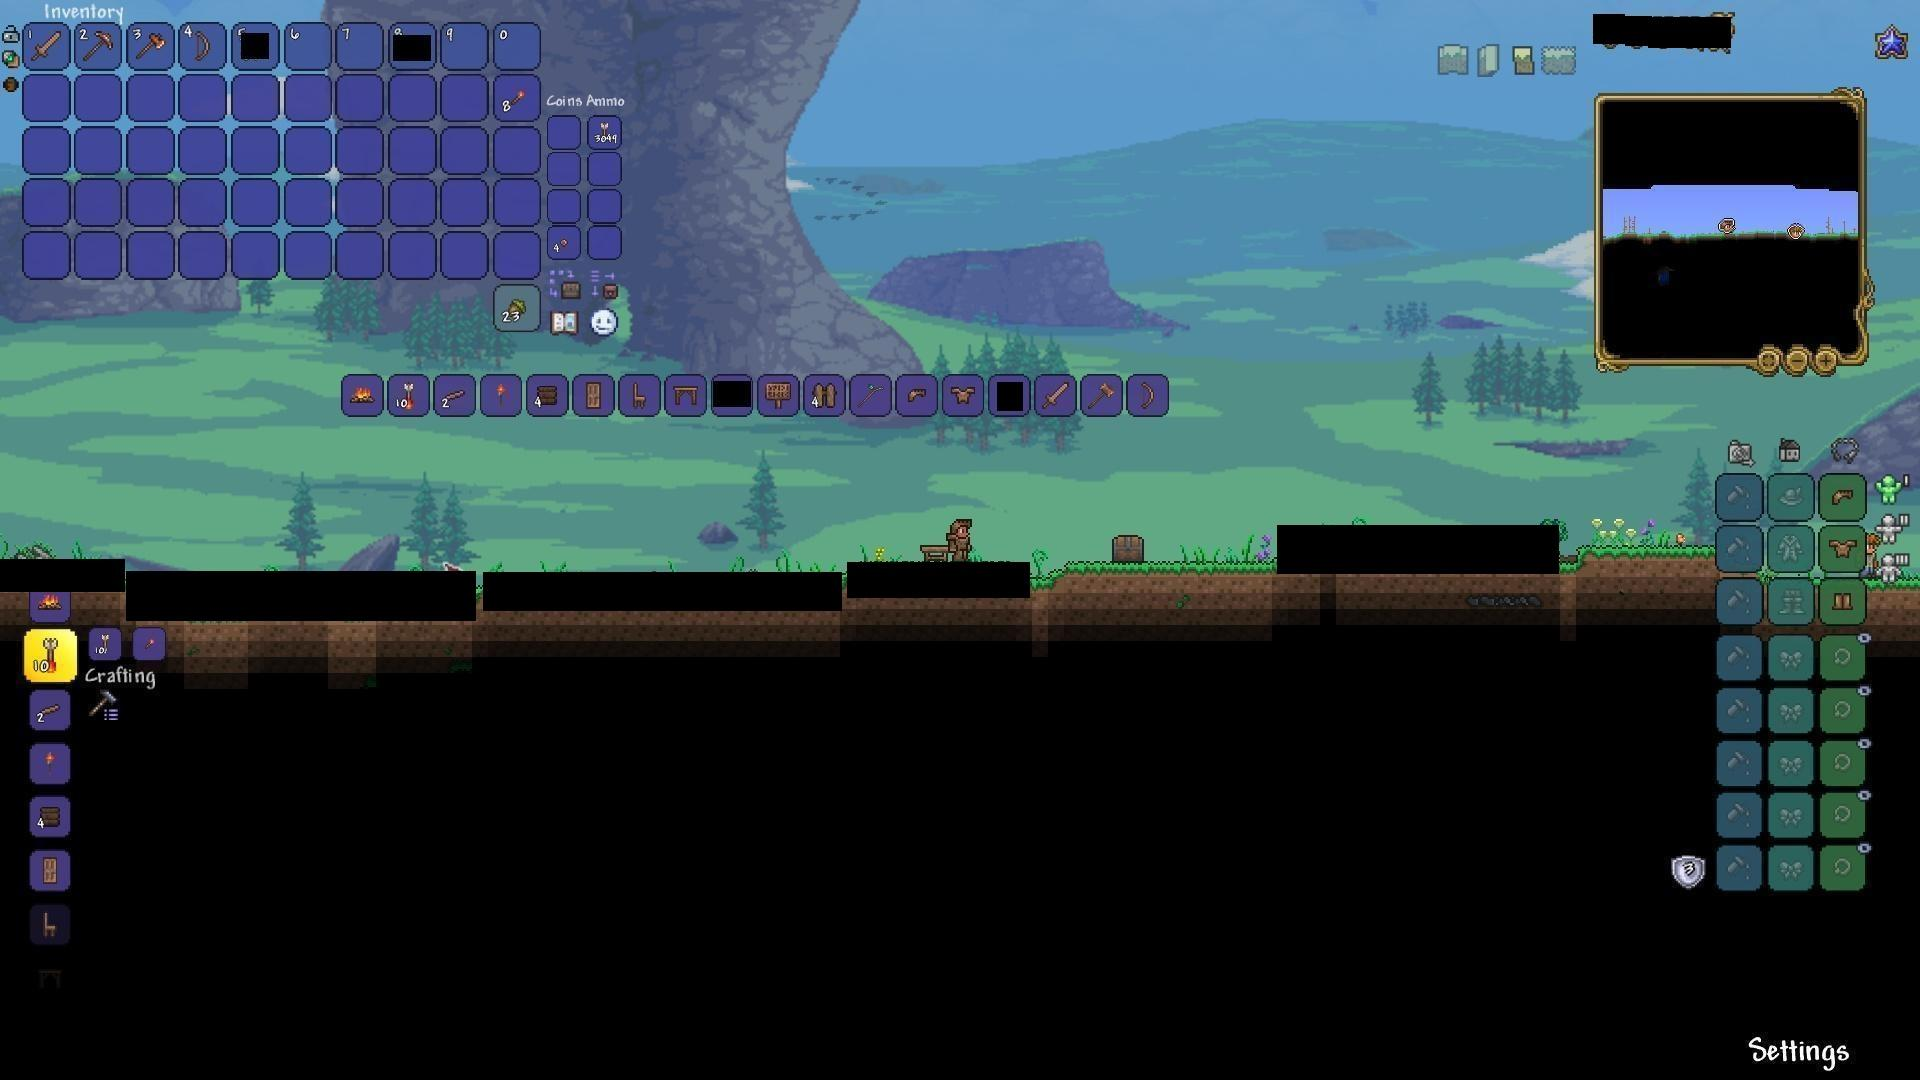breastplate: (948, 382, 978, 404), (1829, 538, 1858, 559)
dirt: (1034, 556, 1274, 587), (1563, 541, 1718, 571), (1866, 576, 1920, 618)
helmet: (1828, 483, 1859, 512), (902, 382, 934, 410)
legs: (1832, 588, 1855, 616)
workbench: (916, 541, 953, 566)
